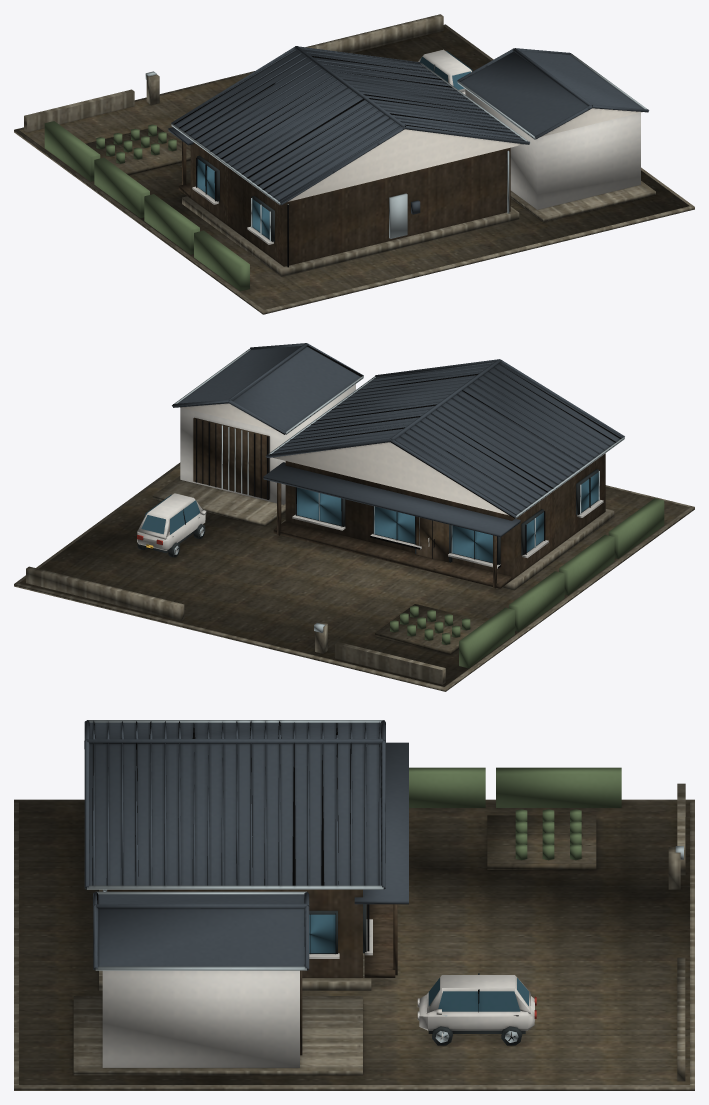
File: rural_house_002.obj
The picture shows the model from 3 angles, top to bottom: view 1: azimuth 30°, elevation 25°; view 2: azimuth 150°, elevation 25°; view 3: azimuth 270°, elevation 25°; orthographic projection. The views are drawn at different scales.
Parts seen in each view (by area): view 1: rural_house_002; view 2: rural_house_002; view 3: rural_house_002.
Boxes of the visible parts, box(x1,y1,x2,y2) form: rural_house_002: box(14, 14, 694, 314); rural_house_002: box(14, 343, 694, 691); rural_house_002: box(14, 720, 694, 1090).
Bounding box in the file's own units: 20 × 5.71 × 20.
1 material, 1 textured.
